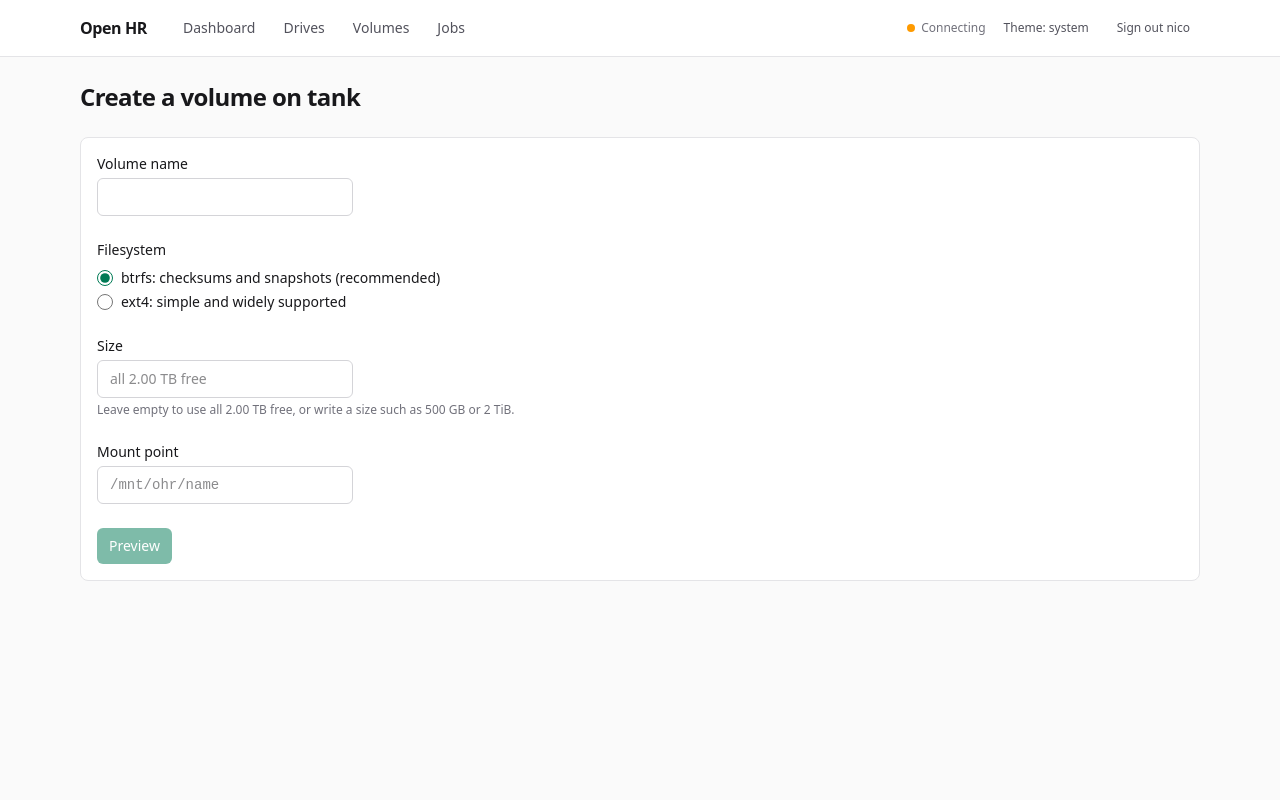
Test: create volume › previews the volume, then creates it once its name is typed
Type "photos" into the field labelled "Volume name" at coordinates (225, 197), box x1=97 y1=178 x2=353 y2=216
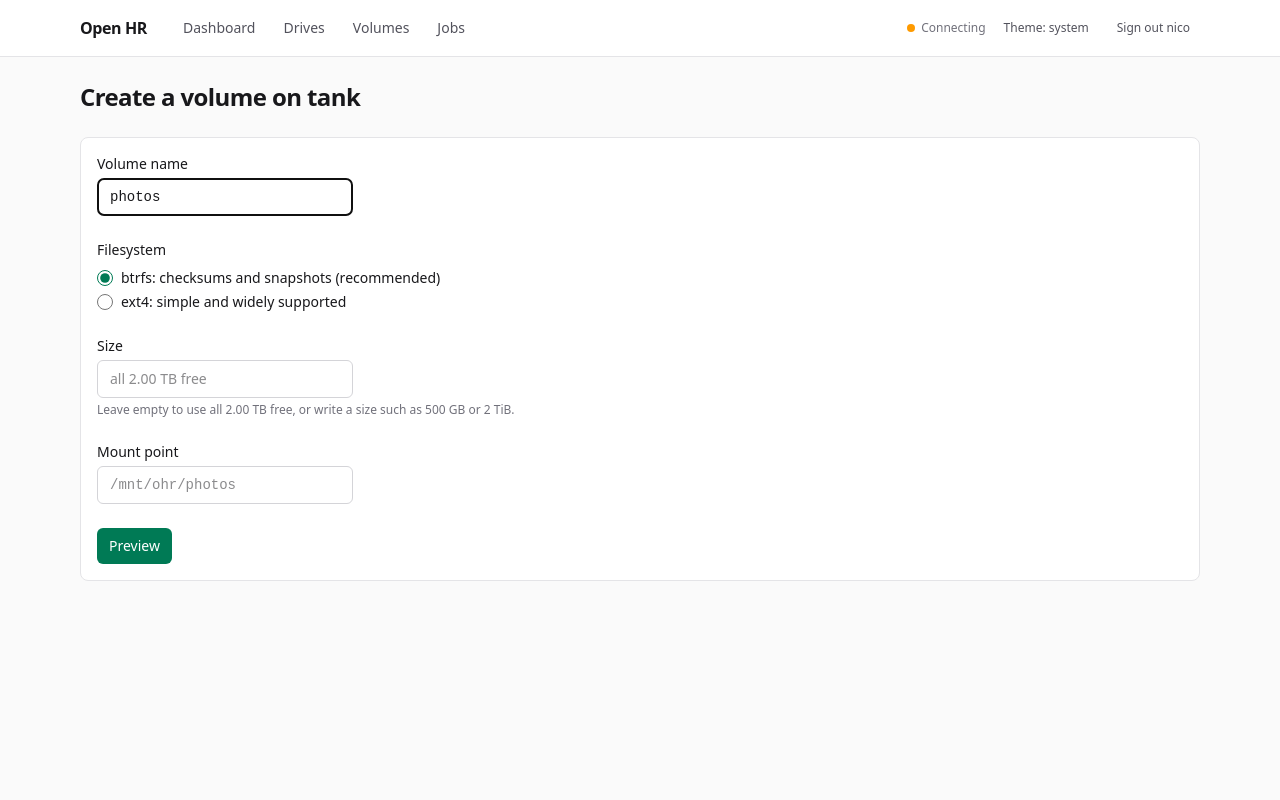
Type "500 GB" into the field labelled "Size" at coordinates (225, 379), box x1=97 y1=360 x2=353 y2=398
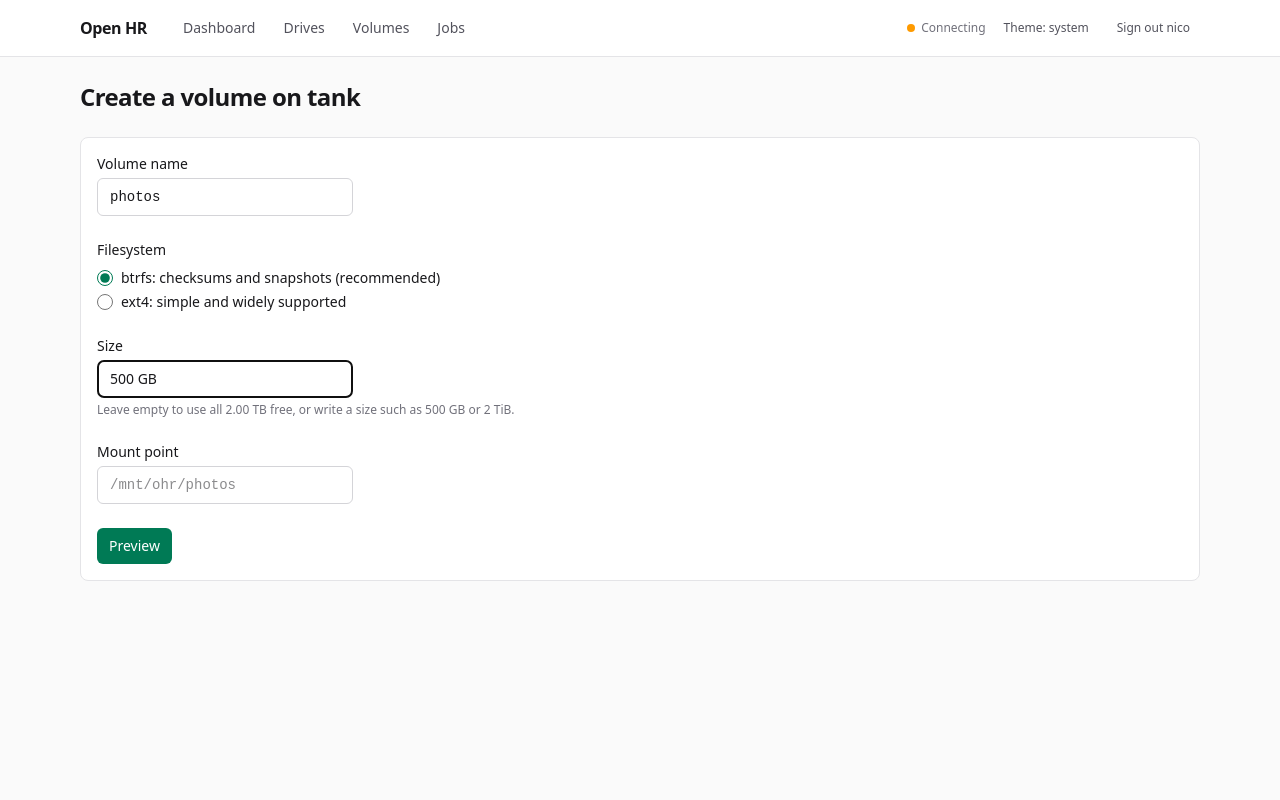
Click the button "Preview" at coordinates (134, 546), box x1=97 y1=528 x2=172 y2=564
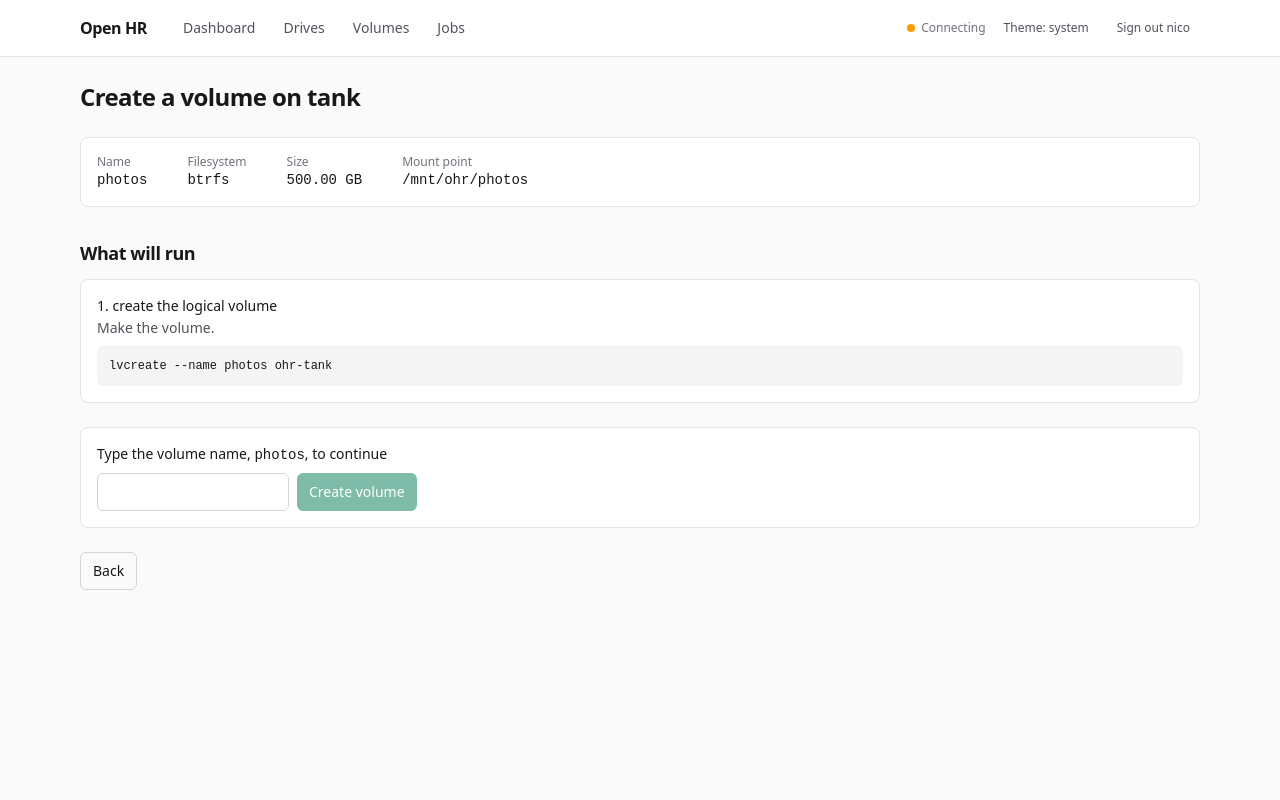
Check: the text "lvcreate --name photos ohr-tank" is shown, box x1=97 y1=346 x2=1183 y2=386
Type "photos" into the field labelled "Type the volume name, photos, to continue" at coordinates (193, 492), box x1=97 y1=473 x2=289 y2=511
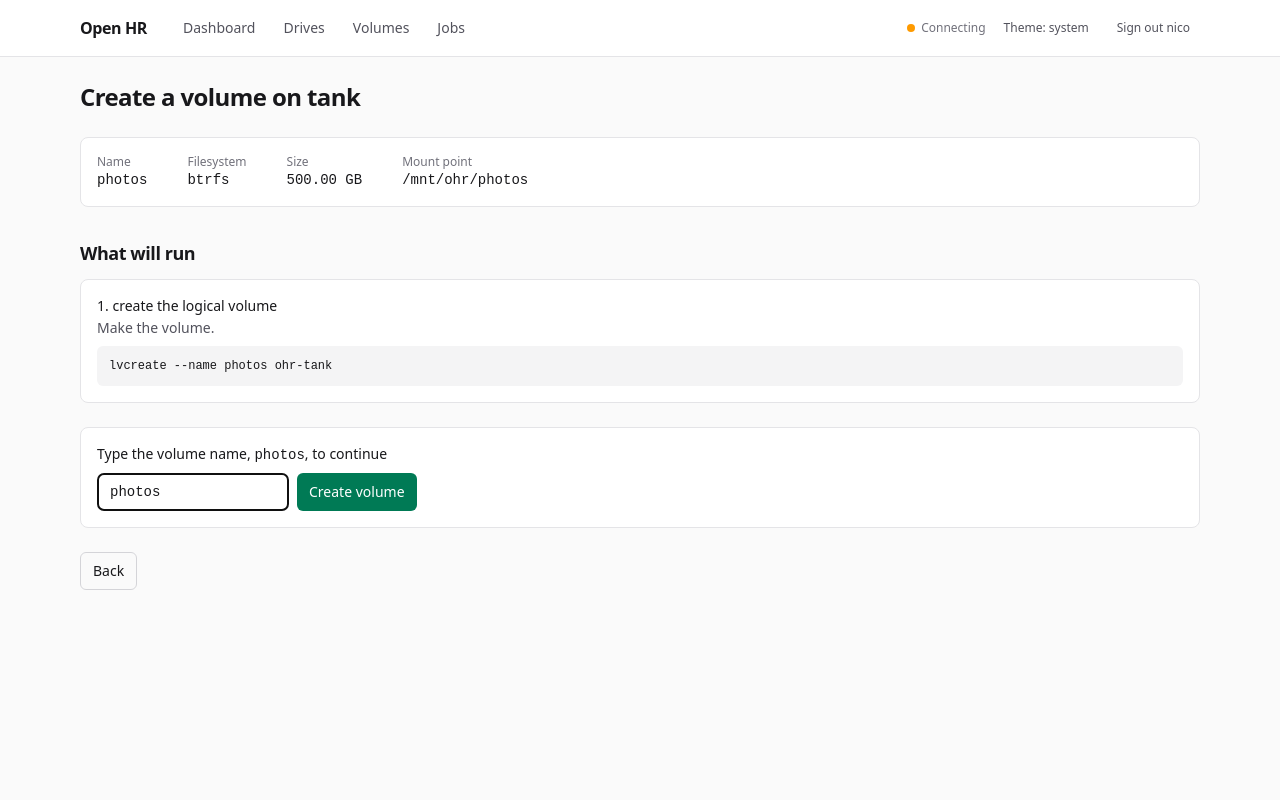
Click the button "Create volume" at coordinates (357, 492), box x1=297 y1=473 x2=416 y2=511
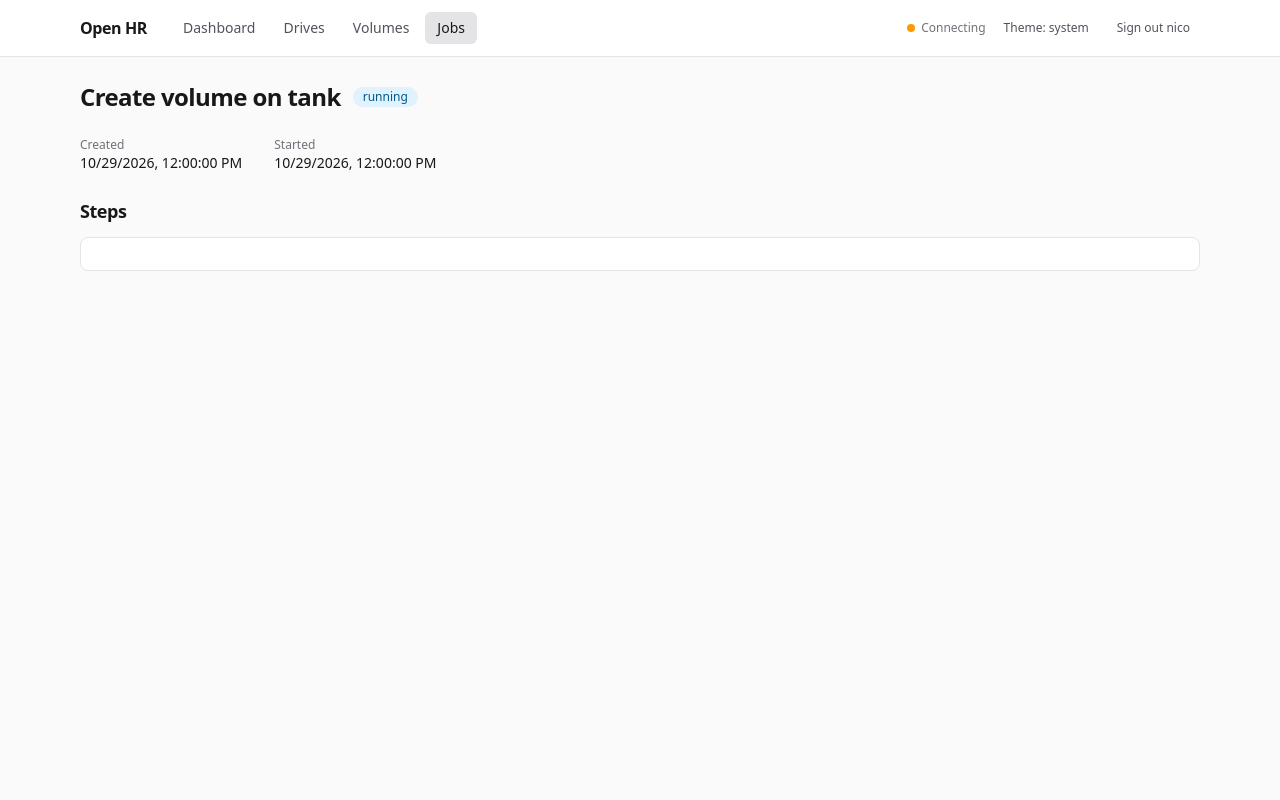
Check: the heading "Create volume on tank" is shown, box x1=80 y1=81 x2=341 y2=113
